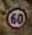limite 60: (5, 6, 27, 29)
